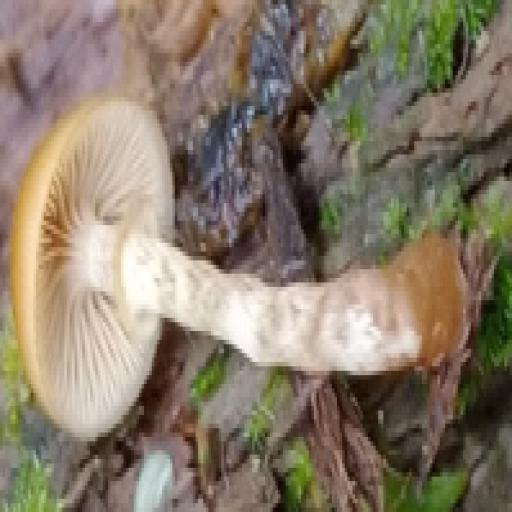mushroom: (8, 90, 468, 447)
